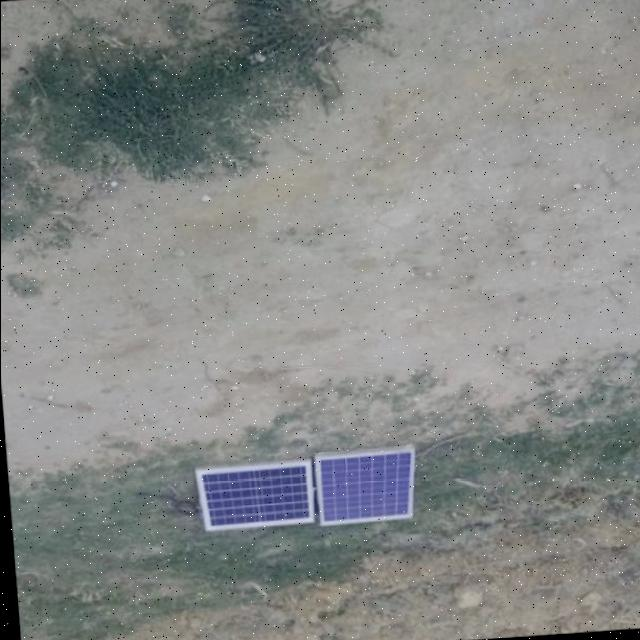Normal Solar Panel: (188, 464, 306, 532), (308, 452, 410, 526)
